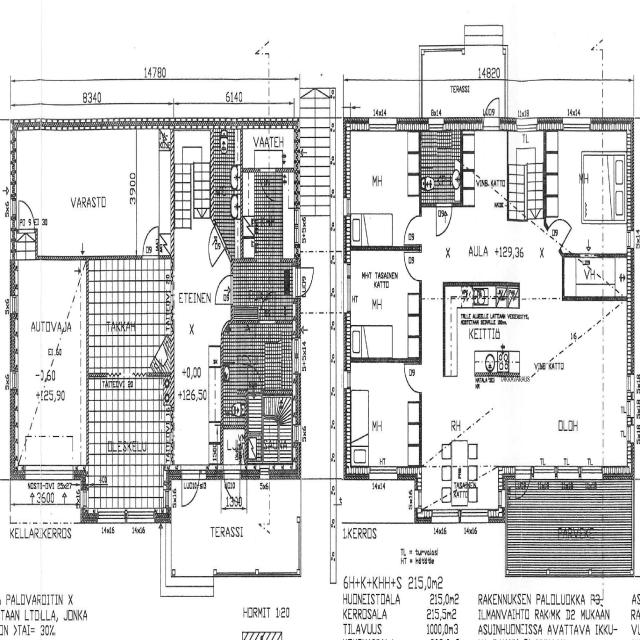door: (179, 465, 203, 510), (221, 467, 244, 509), (435, 197, 453, 238), (402, 358, 422, 393), (213, 270, 233, 305), (402, 210, 422, 244), (402, 248, 422, 281), (482, 93, 501, 127), (296, 264, 316, 294), (556, 216, 574, 248)
window: (576, 466, 604, 490), (96, 508, 128, 527), (460, 506, 490, 526), (559, 114, 592, 132), (124, 508, 155, 526), (367, 115, 398, 132), (430, 509, 460, 526), (368, 465, 398, 481), (343, 263, 351, 314), (8, 282, 18, 322), (516, 115, 539, 131), (294, 338, 300, 374), (342, 368, 350, 393), (429, 116, 445, 128), (628, 230, 636, 248)
zone: (12, 253, 89, 480), (30, 127, 142, 257), (86, 370, 168, 509), (86, 256, 170, 375), (345, 126, 419, 243), (345, 360, 421, 473), (346, 246, 421, 356), (553, 142, 628, 242), (223, 311, 296, 399), (242, 166, 296, 264), (230, 251, 296, 318), (461, 130, 508, 209), (508, 127, 542, 215), (562, 254, 630, 297), (419, 136, 461, 203), (241, 122, 297, 171), (464, 339, 508, 378), (218, 425, 248, 471)
